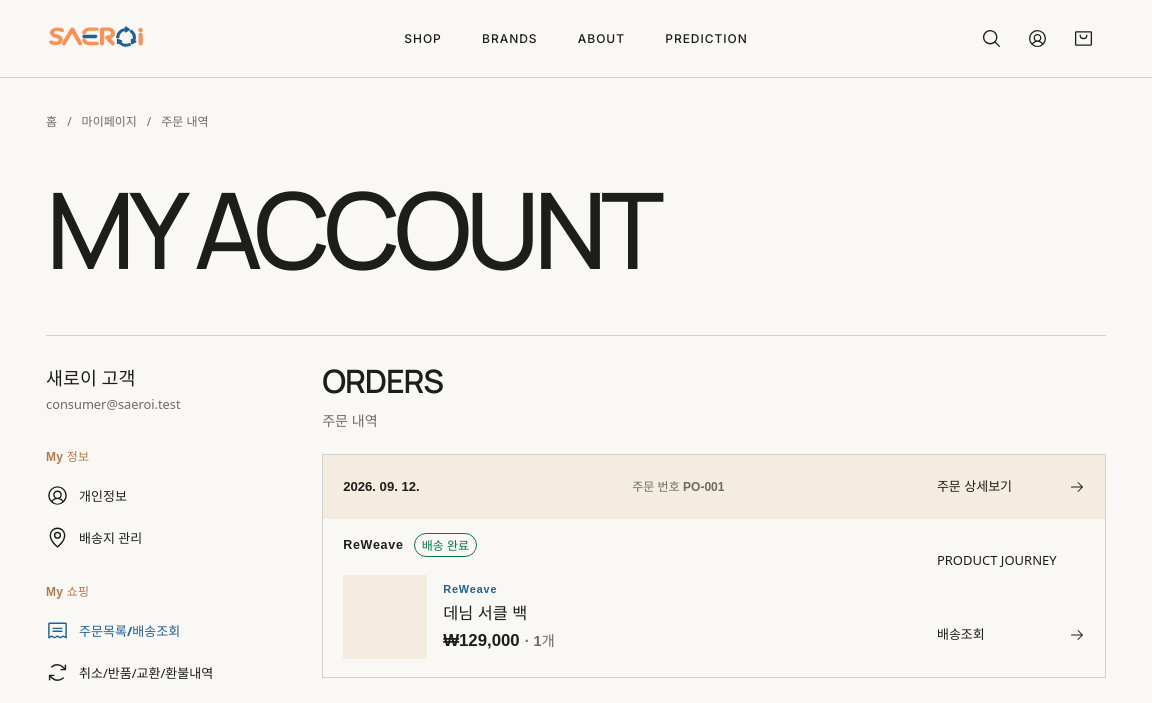
it: consumer mypage route › 주문 내역에서 주문과 배송 현황, 제품 여정을 보여준다
Check: the heading "데님 서클 백" is shown, box [443,604,527,622]
# 상태 배지만으로는 "언제" 를 알 수 없다. 지나온 단계에 날짜가 적힌다.
What coordinates should you click on to do the following:
click the button "배송조회"
I would click on:
 (1011, 635)
Its box is [937,617,1085,653].
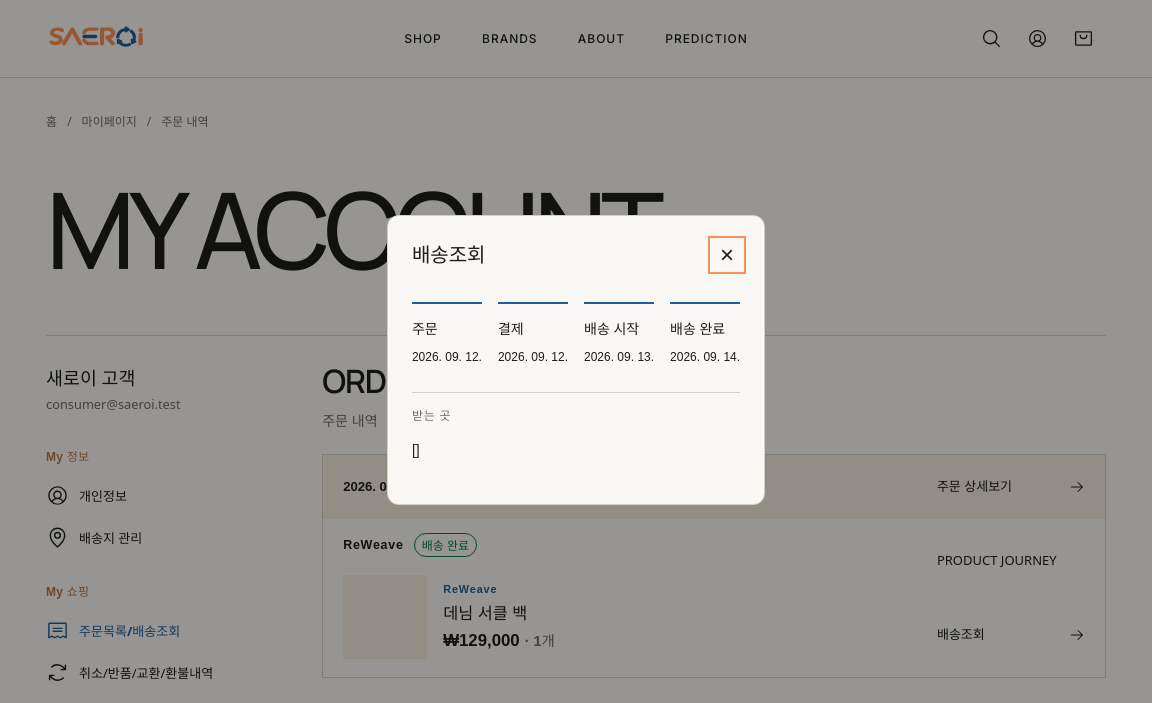
Check: the number of list items is 4, box [412,302,482,368]; [498,302,568,368]; [584,302,654,368]; [670,302,740,368]
